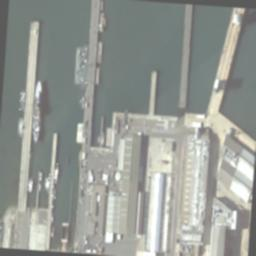boat: (30, 78, 44, 142), (78, 41, 90, 90), (20, 86, 26, 110), (44, 174, 50, 190), (18, 118, 23, 136), (54, 164, 58, 180), (51, 186, 56, 198), (28, 176, 32, 190), (38, 168, 42, 179), (78, 96, 82, 106), (101, 131, 104, 144), (96, 134, 100, 142), (51, 200, 54, 210), (50, 211, 53, 221), (38, 179, 40, 191), (46, 188, 48, 192), (53, 180, 56, 182)
